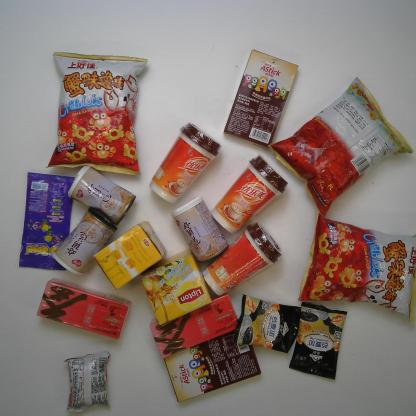Candy: (18, 172, 77, 272)
Canned Food: (53, 208, 117, 276), (67, 164, 136, 227), (170, 196, 228, 262)
Dessert: (164, 325, 261, 402), (223, 50, 298, 148), (65, 350, 111, 412)
Instant Drink: (211, 154, 287, 233), (203, 222, 282, 297), (150, 294, 241, 358), (36, 279, 132, 339), (150, 123, 221, 204), (140, 250, 212, 326), (93, 221, 167, 289), (289, 302, 347, 379), (233, 295, 300, 353)
Puffed Food: (267, 77, 413, 219), (298, 209, 416, 324), (46, 53, 148, 176)
